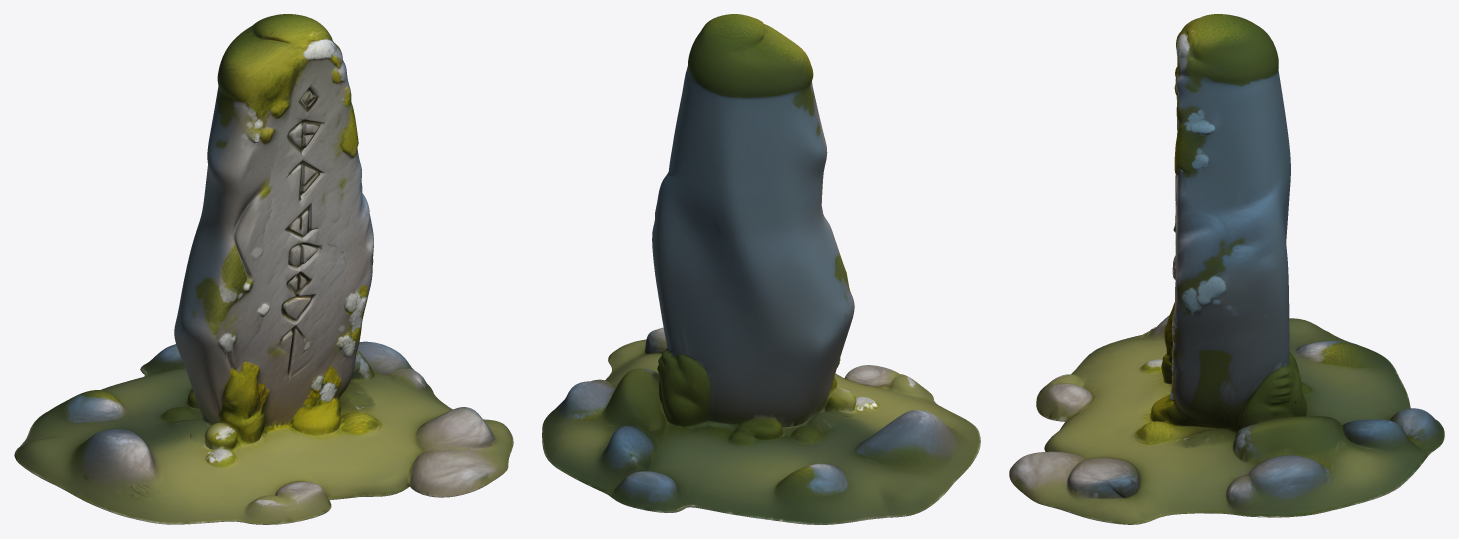
Rendered from StandingStone.glb.
3 views of the same model, side by side, from view 1: azimuth 30°, elevation 25°; view 2: azimuth 150°, elevation 25°; view 3: azimuth 270°, elevation 25° (orthographic). The views are drawn at different scales.
Visible parts, largest first — view 1: node_0; view 2: node_0; view 3: node_0.
Boxes of the visible parts, x1=… form: node_0: x1=14, y1=14, x2=513, y2=524; node_0: x1=542, y1=14, x2=980, y2=524; node_0: x1=1009, y1=14, x2=1444, y2=524.
Size of the model in its own units: 0.8053 by 0.792 by 0.7436.
Materials: 1 (1 with a texture image).
